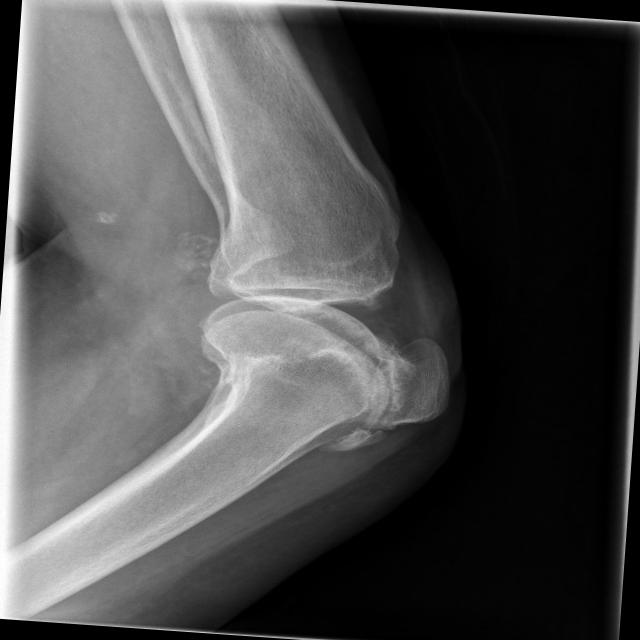Knee: (194, 215, 465, 462)
